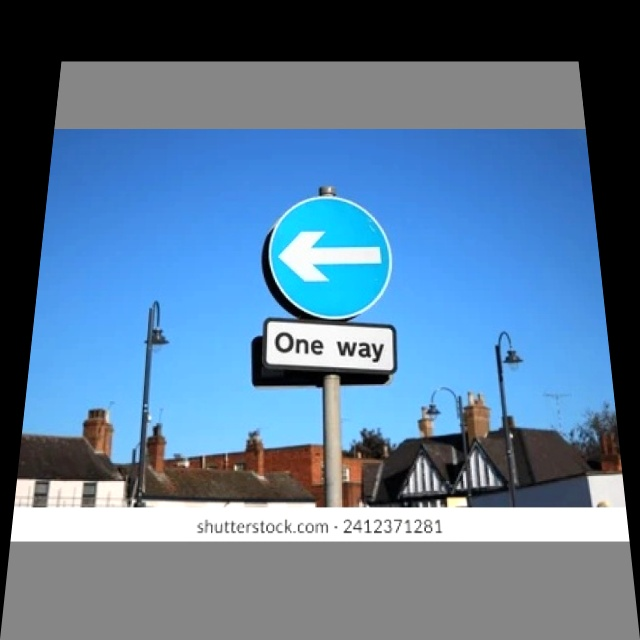Compulsory_Turn_Left: (258, 193, 395, 320)
